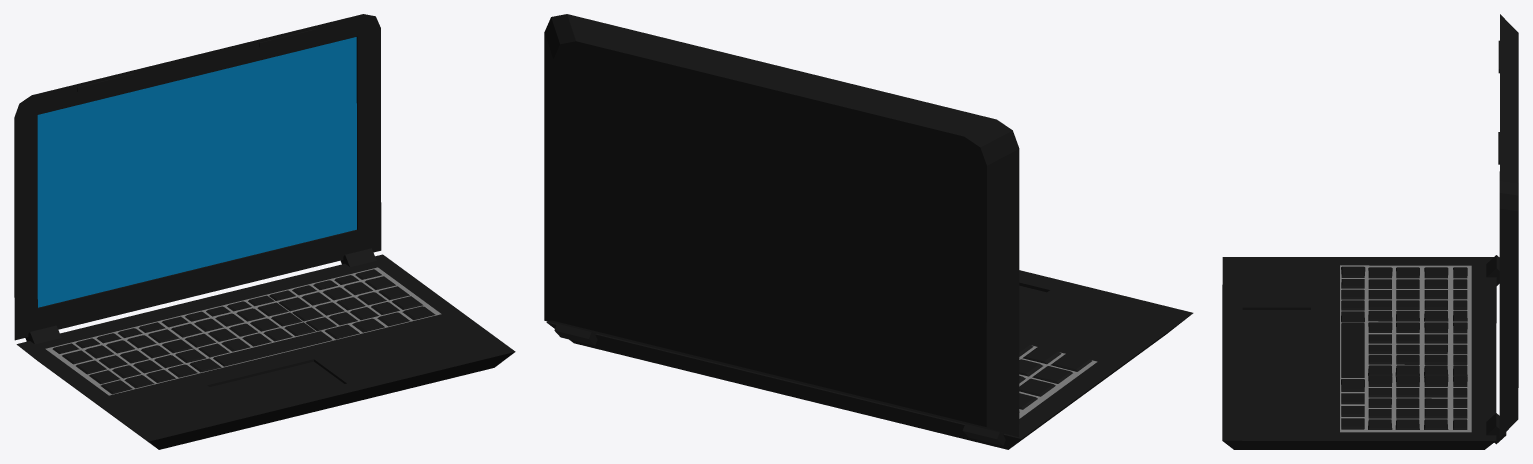
The model's file is Laptop.gltf.
The picture shows the model from 3 angles, left to right: view 1: azimuth 30°, elevation 25°; view 2: azimuth 150°, elevation 25°; view 3: azimuth 270°, elevation 25°; orthographic projection. The views are drawn at different scales.
Parts seen in each view (by area): view 1: node-0; view 2: node-0; view 3: node-0.
Boxes of the visible parts, x1,y1,x2,y2 form: node-0: [14, 14, 515, 449]; node-0: [544, 14, 1193, 449]; node-0: [1222, 14, 1518, 449].
Size of the model in its own units: 0.3625 by 0.2459 by 0.2462.
